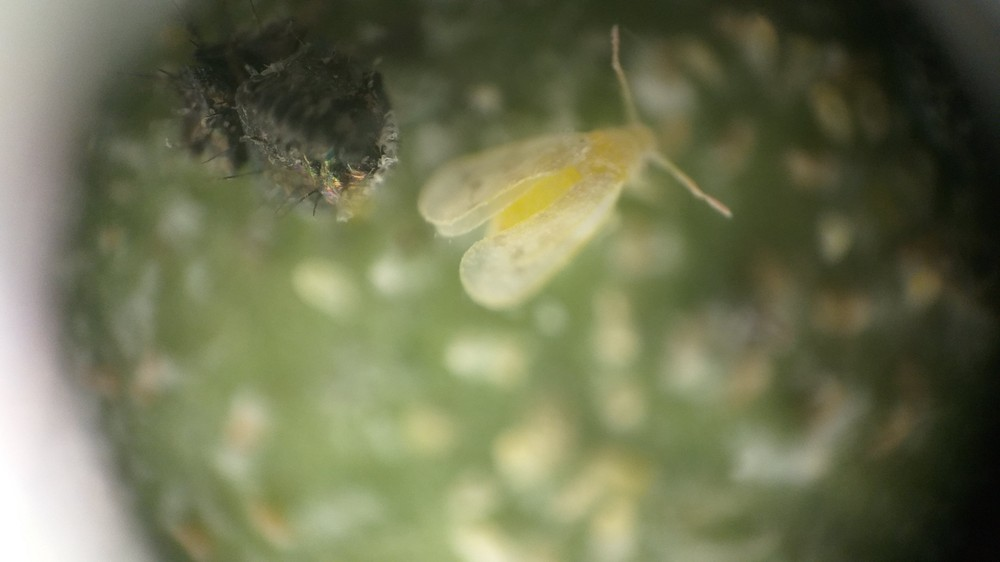Mosca Blanca: (414, 34, 738, 333)
